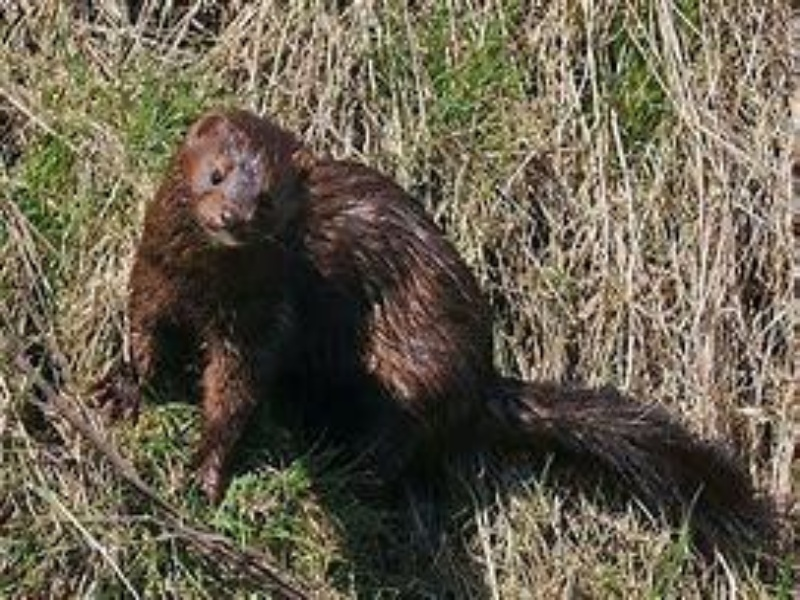minkish: (83, 100, 755, 558)
